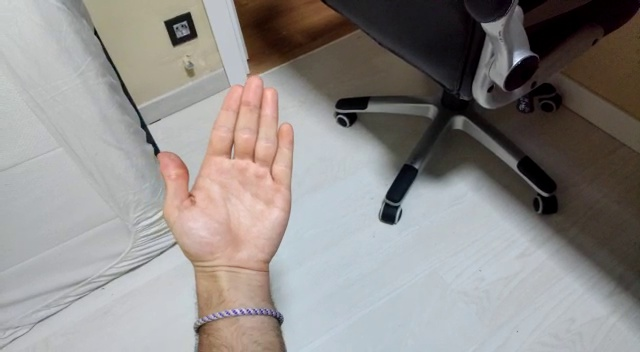Palm: (154, 69, 296, 279)
